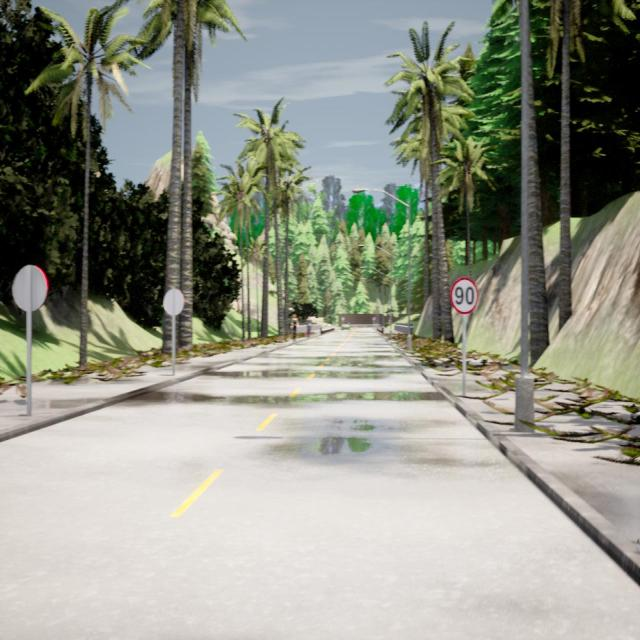Pedestrian: (291, 313, 298, 339), (307, 316, 311, 340)
Traffic_Signs: (12, 264, 48, 312), (451, 277, 479, 314), (162, 288, 185, 316), (372, 317, 377, 321), (342, 316, 345, 322)
